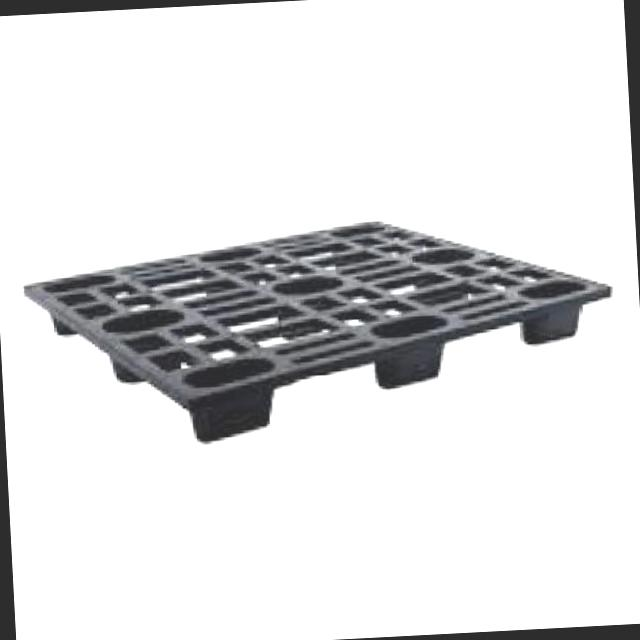pallet: (4, 188, 628, 461)
